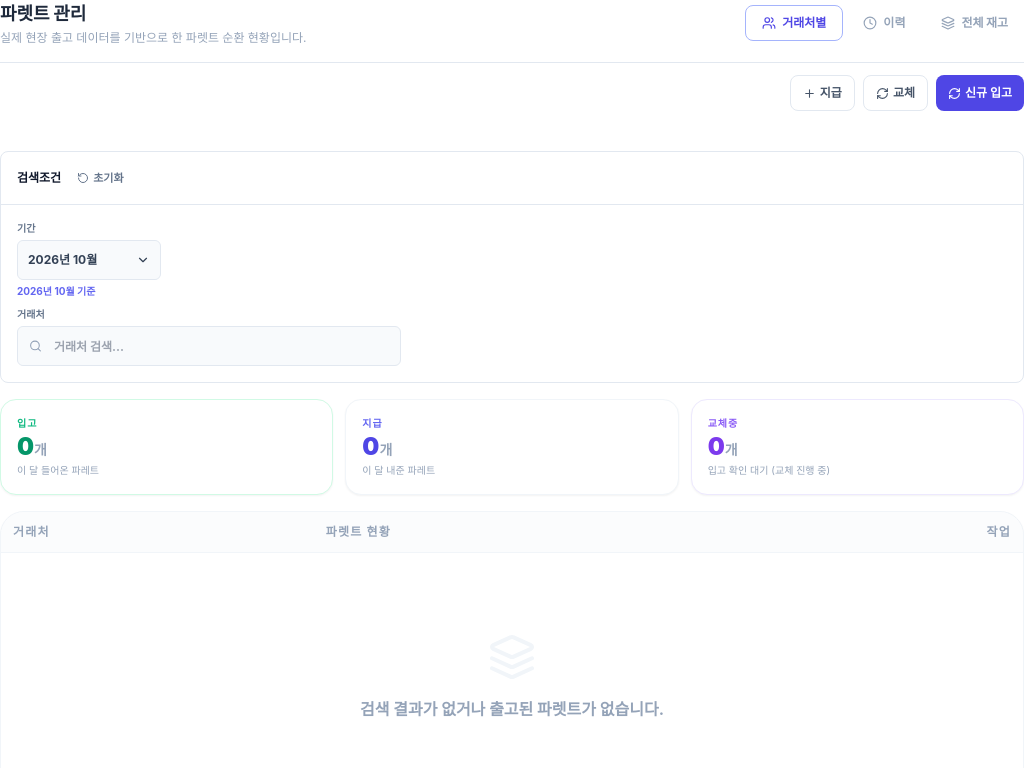
Test: 제목·보기탭·행동·검색을 분리하고 탭 변경으로 지급 입력이나 writer를 실행하지 않는다
In the field labelled "거래처": [209, 346] box [17,326,401,366], type "검수"
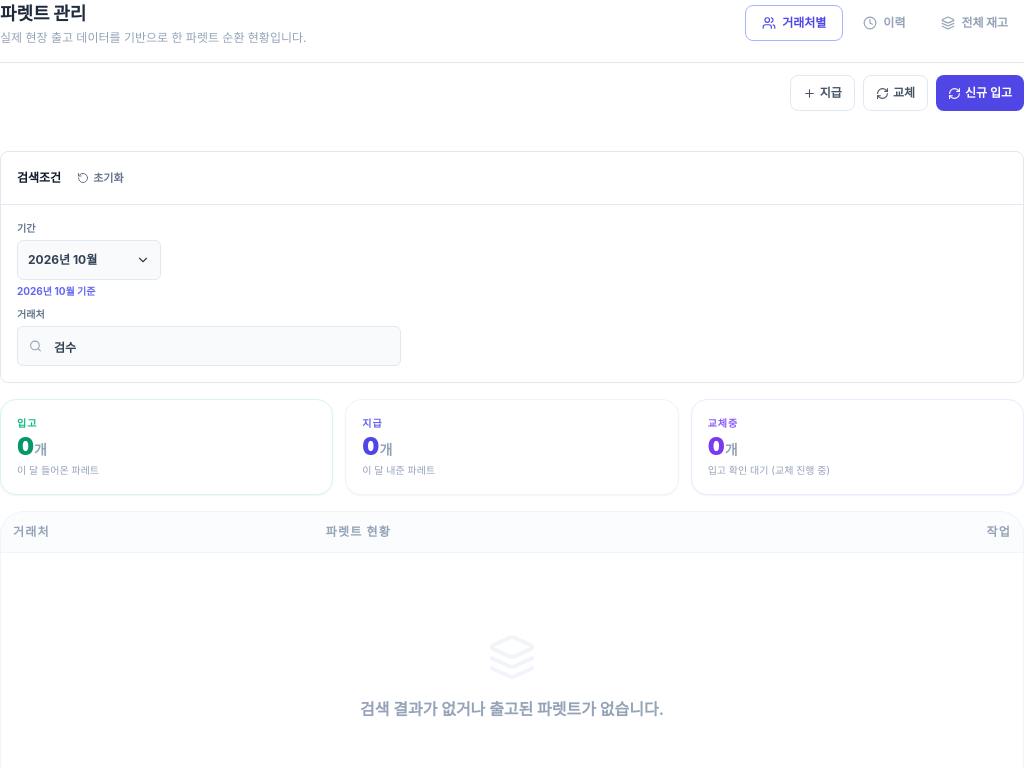
Click the button "교체": [895, 93] box [863,75,928,111]
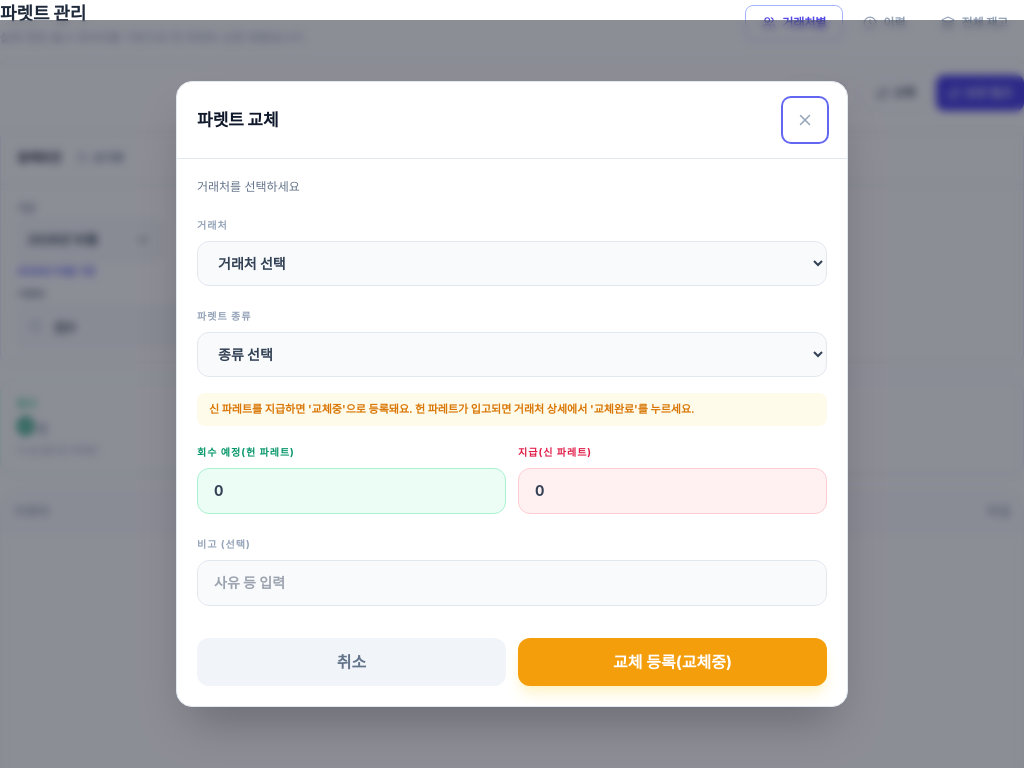
Expected: the dialog "파렛트 교체" is shown, [176,81,848,707]
Expected: the number field with placeholder "회수 예정" below "회수 예정(헌 파레트)" holds "0", [197,468,506,514]
Click the button "취소": [352, 662] box [197,638,506,686]
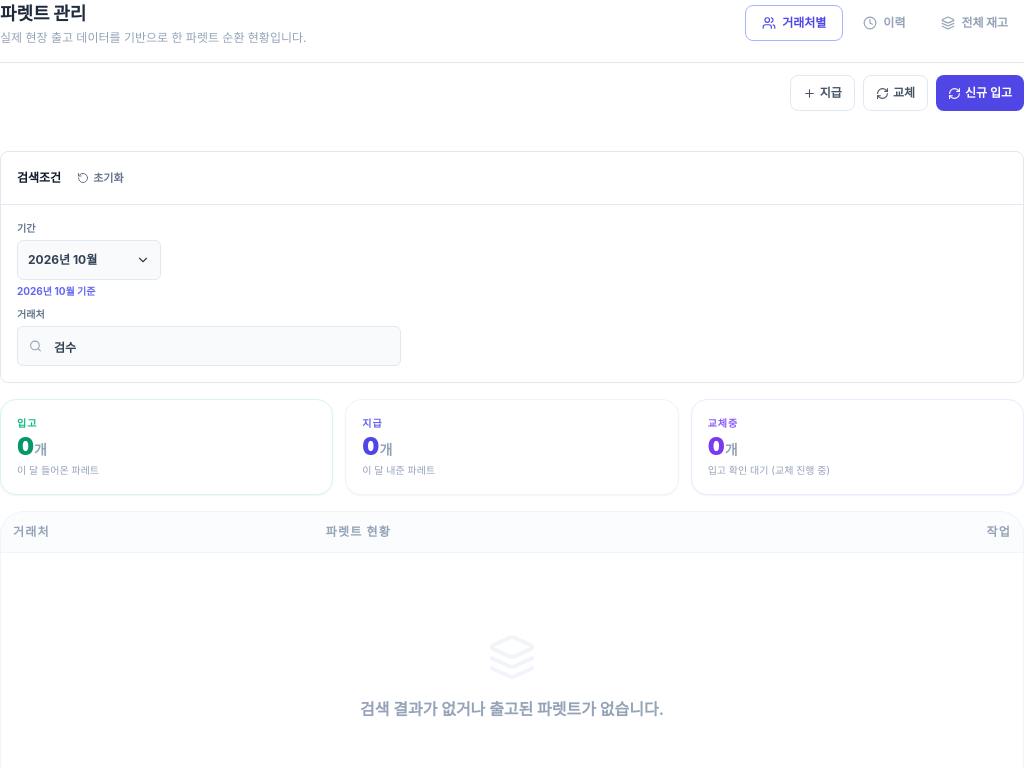
Click the button "이력": [884, 23] box [847,5,921,41]
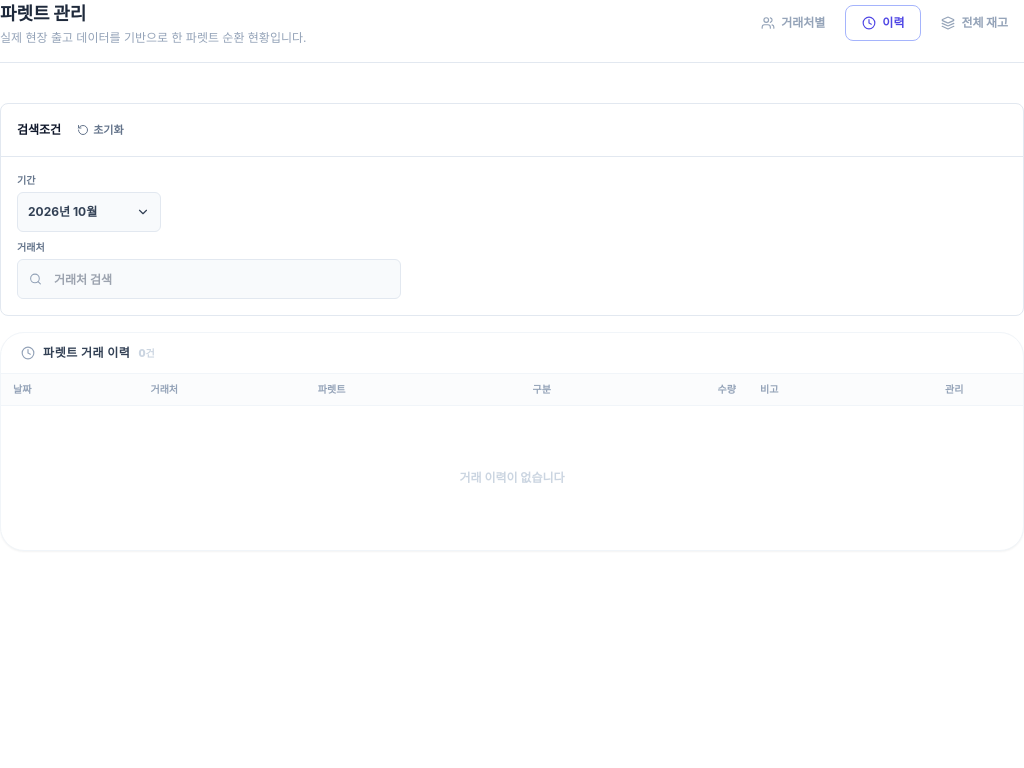
Expected: the button "신규 입고" is gone
